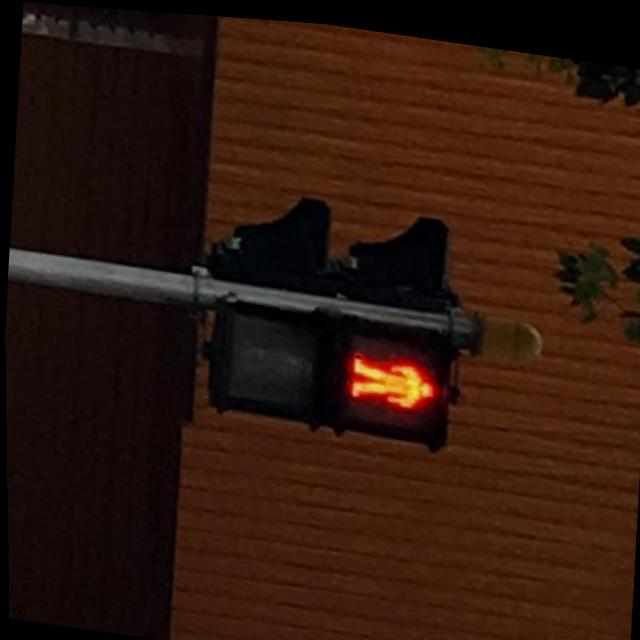red_light: (335, 326, 447, 425)
